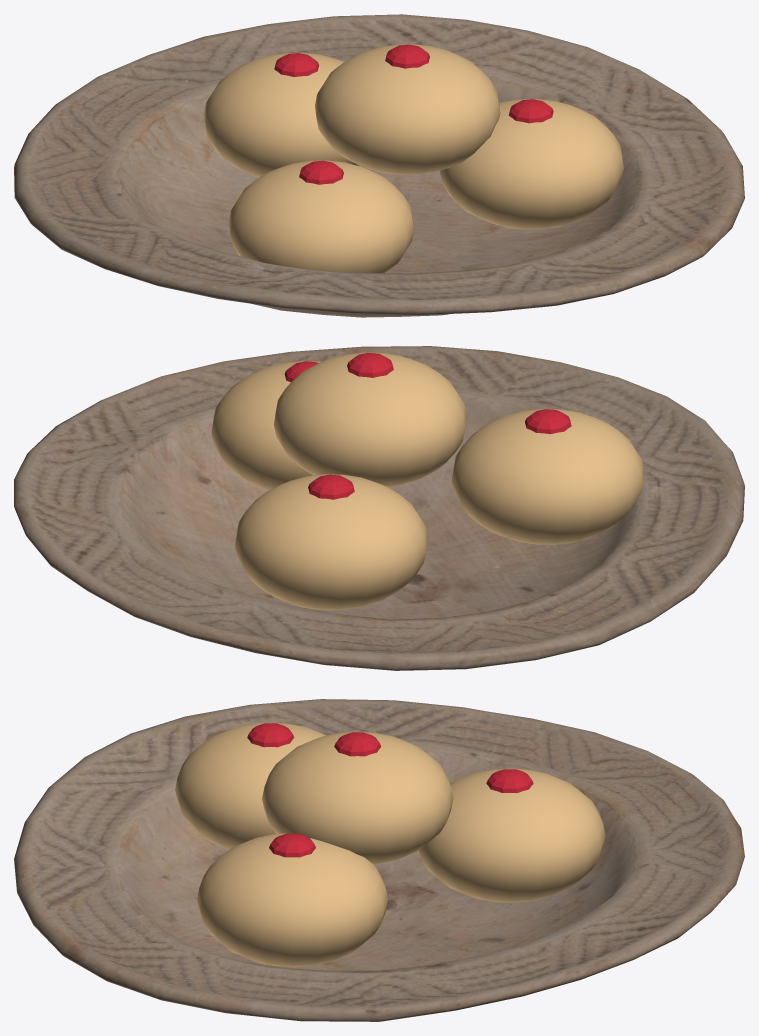
The model's file is sufganiot_plate_v2.glb.
The picture shows the model from 3 angles, top to bottom: view 1: azimuth 30°, elevation 25°; view 2: azimuth 150°, elevation 25°; view 3: azimuth 270°, elevation 25°; orthographic projection. The views are drawn at different scales.
Visible parts, largest first — view 1: carved_wooden_plate, Sphere.006, Sphere.002, Sphere, Sphere.004, Sphere.003, Sphere.001, Sphere.007, Sphere.005; view 2: carved_wooden_plate, Sphere.004, Sphere, Sphere.006, Sphere.002, Sphere.005, Sphere.001, Sphere.007; view 3: carved_wooden_plate, Sphere.002, Sphere.006, Sphere.004, Sphere, Sphere.003, Sphere.007, Sphere.001, Sphere.005.
Part boxes in pixels (x1,y1,x2,y2): carved_wooden_plate: (14, 14, 744, 317); Sphere.006: (315, 44, 500, 174); Sphere.002: (440, 99, 623, 229); Sphere: (228, 160, 414, 273); Sphere.004: (204, 52, 359, 177); Sphere.003: (508, 99, 553, 123); Sphere.001: (299, 160, 343, 184); Sphere.007: (385, 44, 429, 68); Sphere.005: (274, 53, 318, 76); carved_wooden_plate: (14, 346, 744, 670); Sphere.004: (235, 474, 427, 610); Sphere: (451, 408, 644, 544); Sphere.006: (274, 352, 466, 487); Sphere.002: (211, 361, 321, 490); Sphere.005: (308, 474, 354, 499); Sphere.001: (525, 409, 571, 434); Sphere.007: (347, 353, 393, 377); carved_wooden_plate: (14, 699, 744, 1021); Sphere.002: (197, 833, 387, 967); Sphere.006: (262, 731, 453, 864); Sphere.004: (418, 768, 605, 902); Sphere: (175, 722, 325, 849); Sphere.003: (269, 833, 315, 857); Sphere.007: (334, 732, 381, 756); Sphere.001: (247, 723, 294, 747); Sphere.005: (486, 769, 533, 792).
Bounding box in the file's own units: 0.34 × 0.1055 × 0.3362.
Materials: 3 (1 with a texture image).
